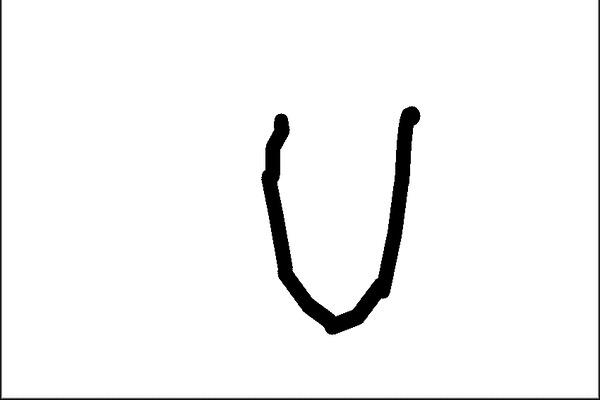U: (239, 89, 412, 334)
